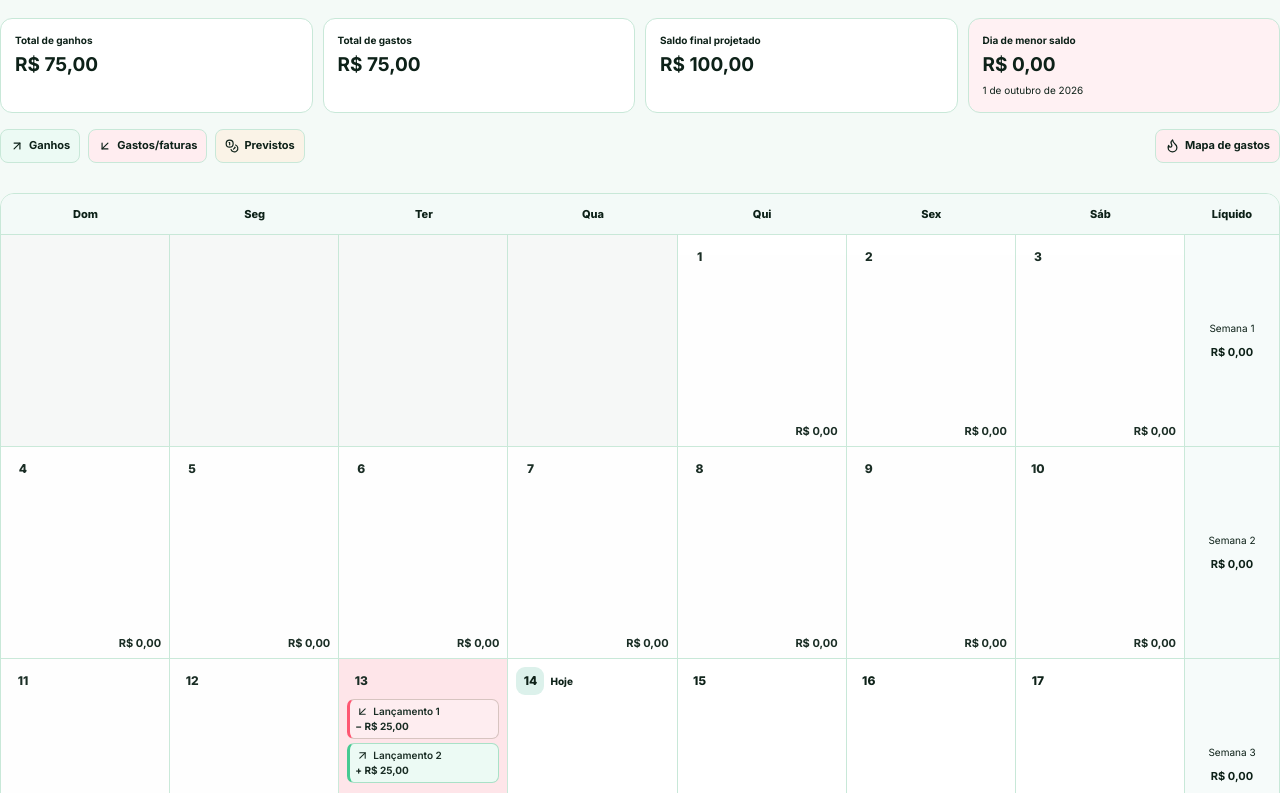
filters the preview without changing the complete day modal or financial totals
Click the button "Ganhos".
click(40, 146)  # box x1=0 y1=129 x2=80 y2=163
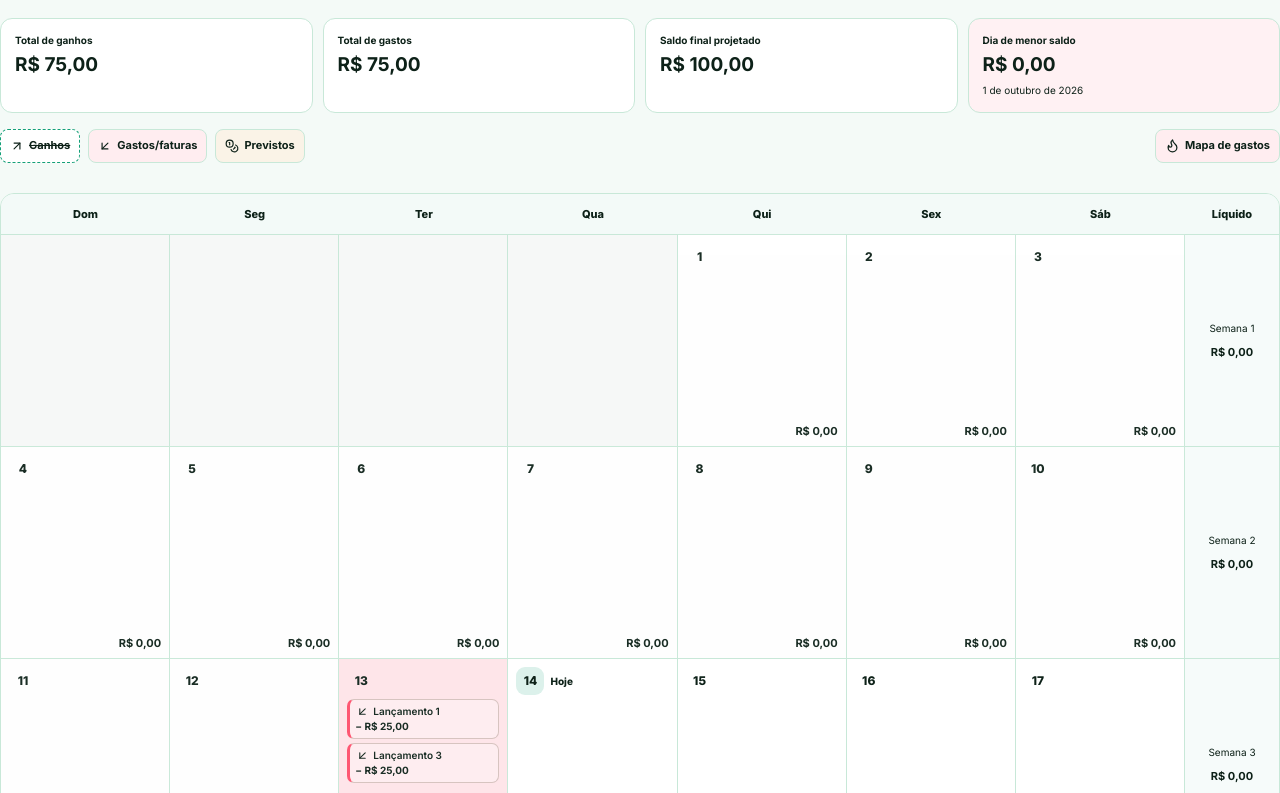
Click the button named "Abrir dia".
click(361, 681)  # box x1=347 y1=667 x2=375 y2=695
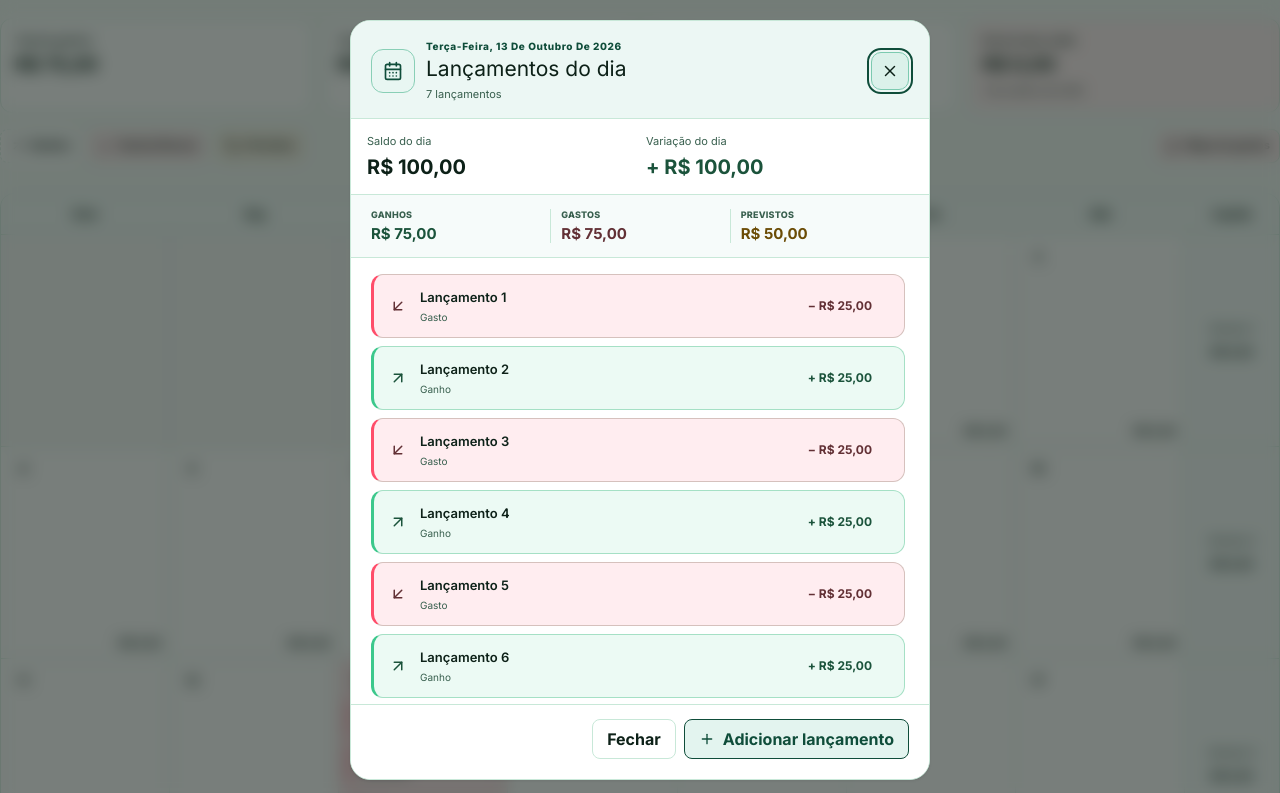
Expected: the number of buttons named "Ver detalhes:" is 7
